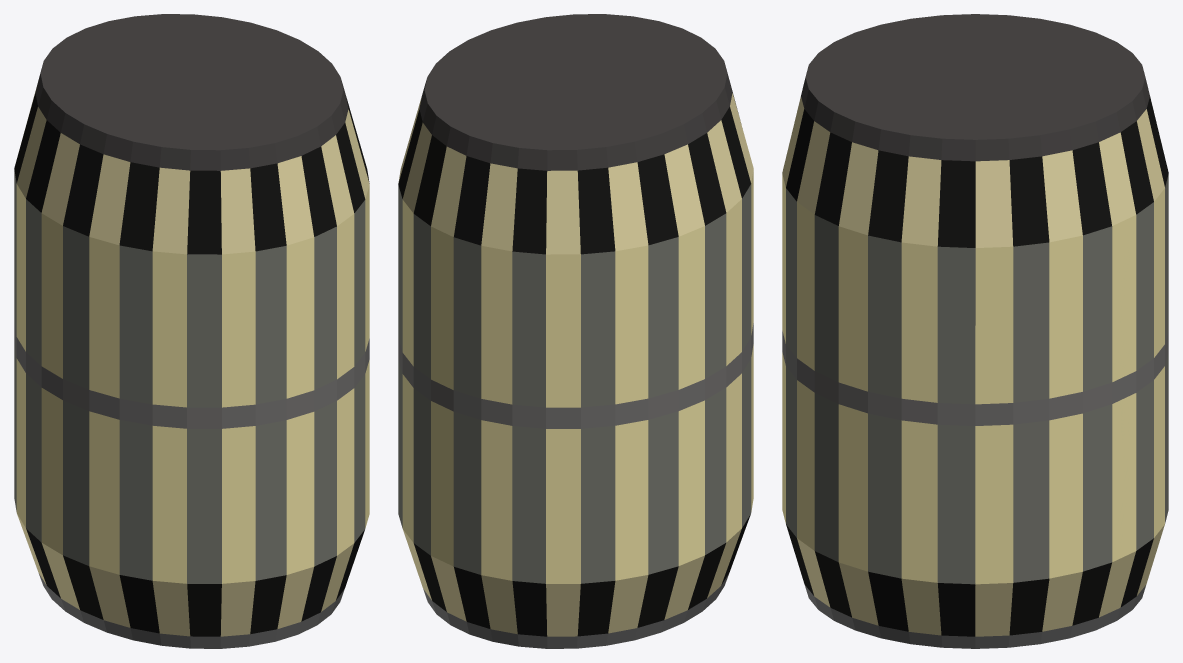
Rendered from Barrel2.fbx.
3 views of the same model, side by side, from view 1: azimuth 30°, elevation 25°; view 2: azimuth 150°, elevation 25°; view 3: azimuth 270°, elevation 25° (orthographic). The views are drawn at different scales.
Parts seen in each view (by area): view 1: Cylinder.001, Cylinder.005, Cylinder.003, Cylinder.006, Cylinder, Cylinder.002, Cylinder.004; view 2: Cylinder.005, Cylinder.001, Cylinder.003, Cylinder, Cylinder.006, Cylinder.002, Cylinder.004; view 3: Cylinder.001, Cylinder.005, Cylinder.003, Cylinder, Cylinder.006, Cylinder.002, Cylinder.004.
Part boxes in pixels (bbox=[...]): Cylinder.001: bbox=[16, 184, 369, 583]; Cylinder.005: bbox=[14, 170, 365, 583]; Cylinder.003: bbox=[35, 14, 348, 170]; Cylinder.006: bbox=[14, 93, 369, 636]; Cylinder: bbox=[16, 85, 369, 636]; Cylinder.002: bbox=[14, 323, 369, 428]; Cylinder.004: bbox=[38, 573, 344, 648]; Cylinder.005: bbox=[398, 184, 751, 583]; Cylinder.001: bbox=[402, 170, 753, 583]; Cylinder.003: bbox=[419, 14, 732, 170]; Cylinder: bbox=[398, 93, 753, 636]; Cylinder.006: bbox=[398, 85, 751, 636]; Cylinder.002: bbox=[398, 323, 753, 428]; Cylinder.004: bbox=[423, 573, 729, 648]; Cylinder.001: bbox=[782, 174, 1164, 584]; Cylinder.005: bbox=[786, 174, 1168, 584]; Cylinder.003: bbox=[801, 14, 1149, 161]; Cylinder: bbox=[782, 96, 1164, 636]; Cylinder.006: bbox=[786, 96, 1168, 636]; Cylinder.002: bbox=[782, 331, 1168, 425]; Cylinder.004: bbox=[805, 585, 1145, 648].
Size of the model in its own units: 183 by 290 by 200.
